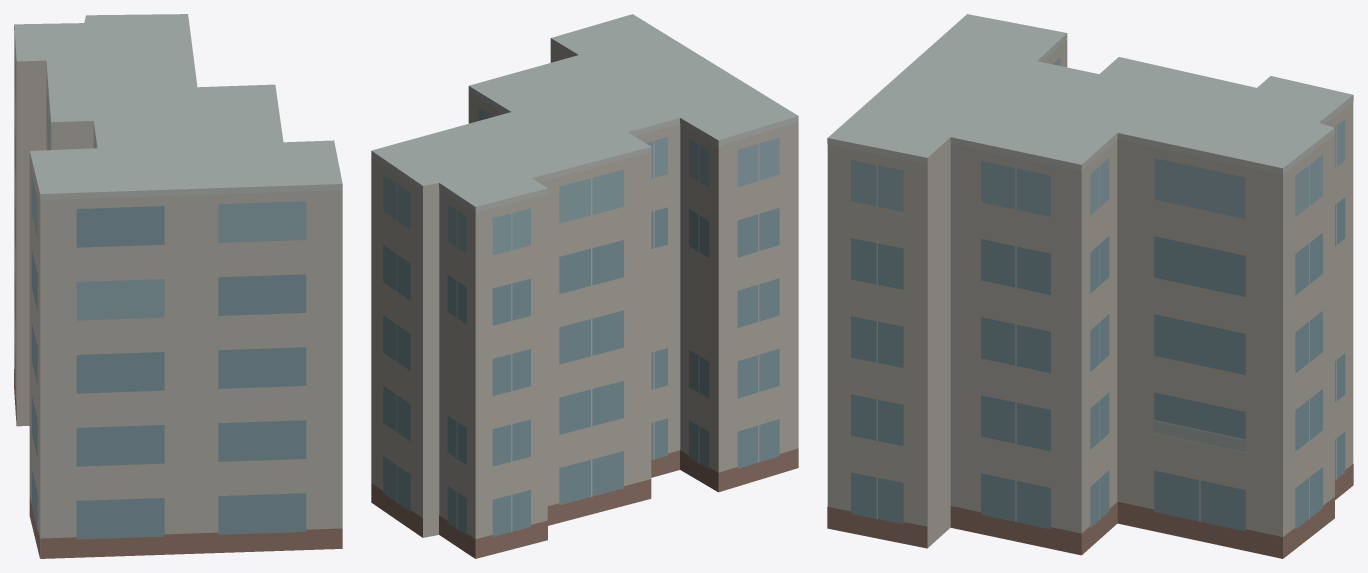
Rendered from survey-upis-32878345.glb.
3 renders of one model, left to right at view 1: azimuth 30°, elevation 25°; view 2: azimuth 150°, elevation 25°; view 3: azimuth 270°, elevation 25°, orthographic. The views are drawn at different scales.
Visible parts, largest first — view 1: survey-upis-32878345.tmp; view 2: survey-upis-32878345.tmp; view 3: survey-upis-32878345.tmp.
Part boxes in pixels (x1,y1,x2,y2): survey-upis-32878345.tmp: (14, 14, 342, 558); survey-upis-32878345.tmp: (371, 14, 798, 558); survey-upis-32878345.tmp: (827, 14, 1353, 558).
Size of the model in its own units: 12.47 by 14.7 by 17.95.
